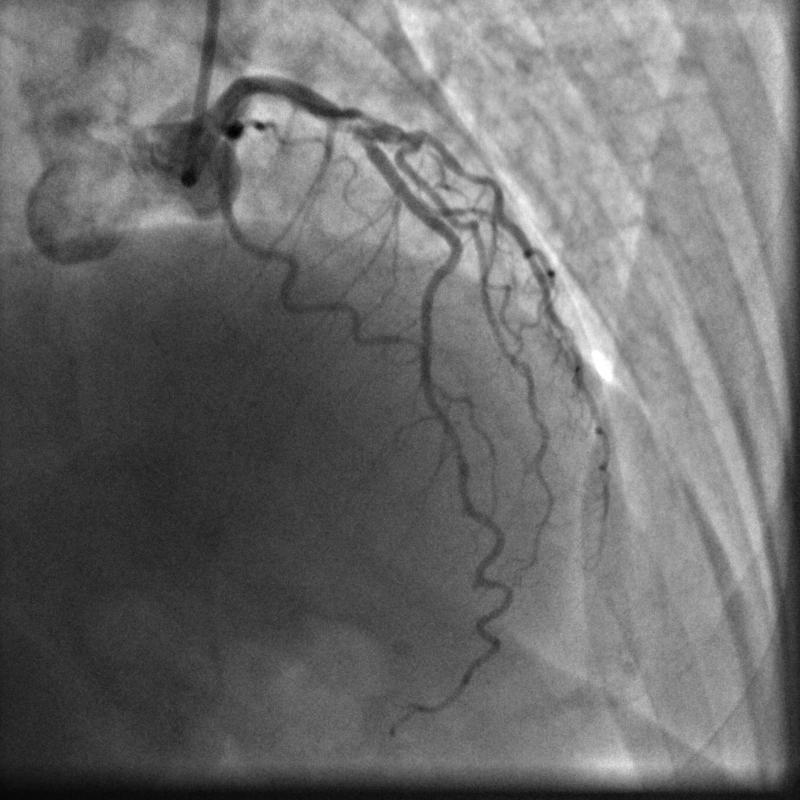Stenosis: (342, 106, 365, 141)
